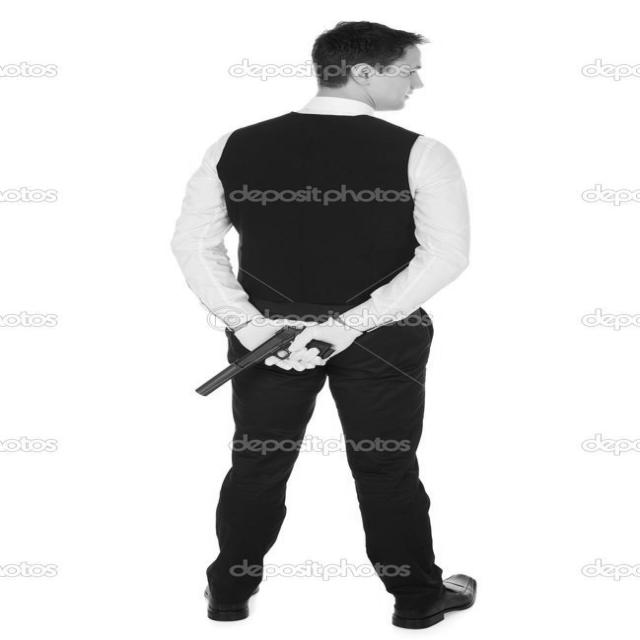gun: (192, 326, 333, 396)
